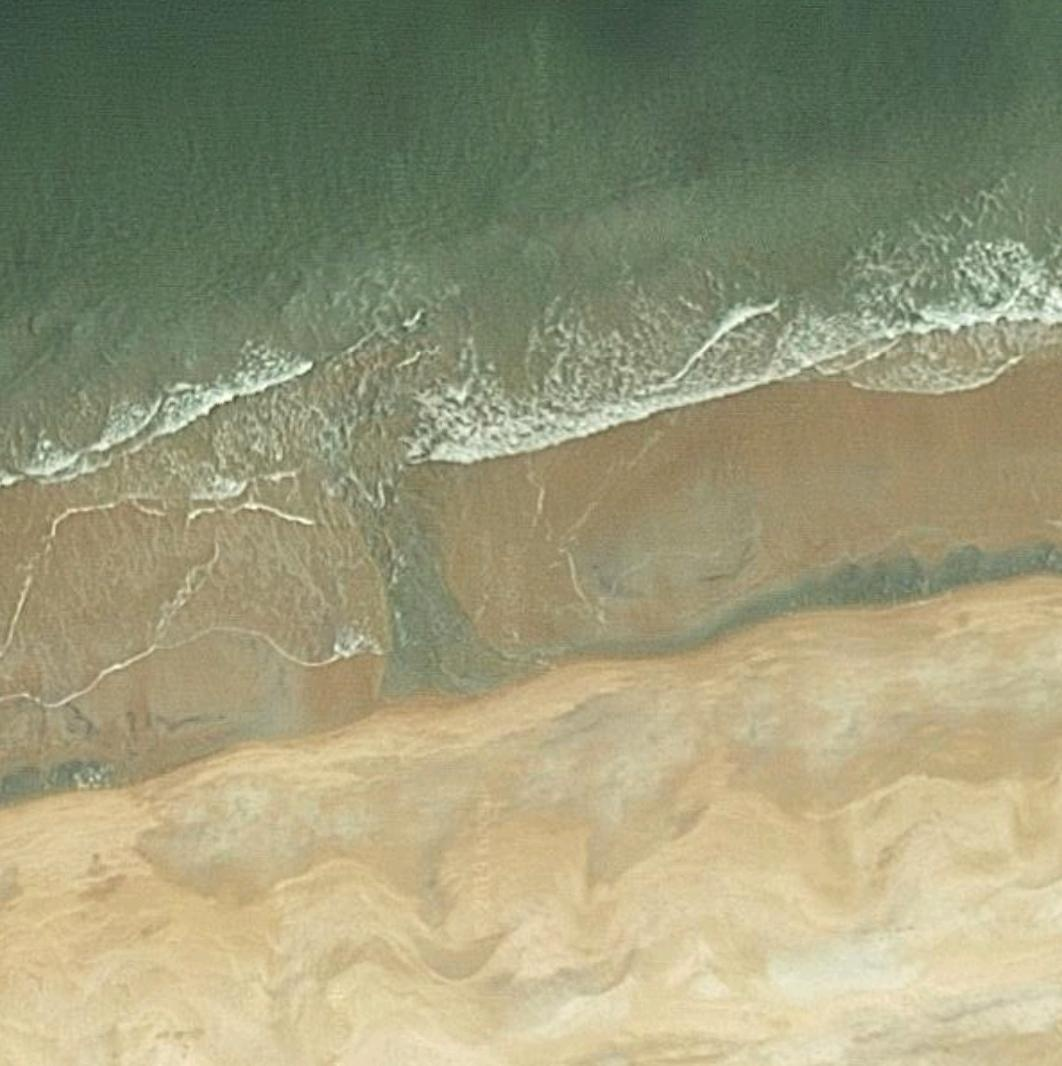rip_current: (202, 207, 547, 656)
